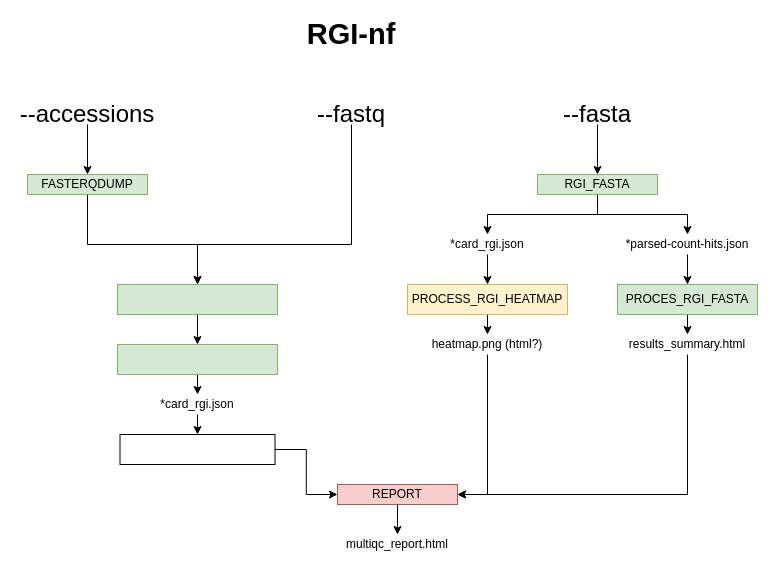
Some shapes in this 775 by 572 pixel diagram are drawn without their labels. Each missing label, with the centre of its shape:
"FASTP" belongs at pixel 197 299.
"PROCESS_RGI_BWT" belongs at pixel 197 449.
"RGI_BWT" belongs at pixel 197 359.
